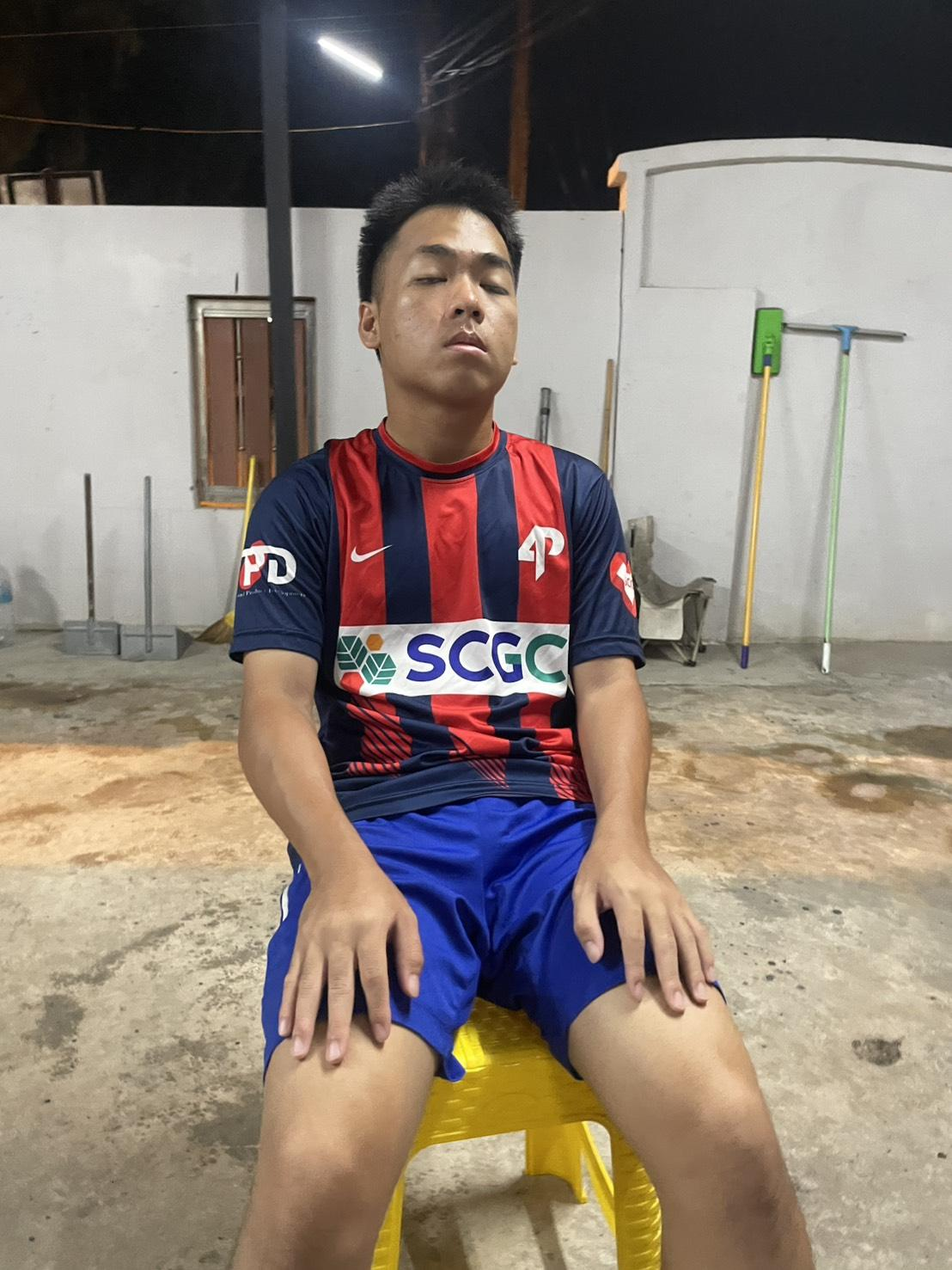BadPosture: (231, 165, 644, 822)
